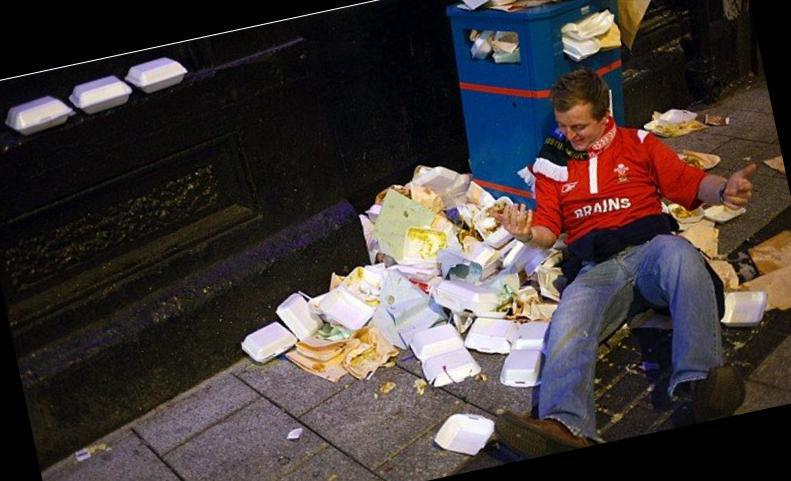Drunk: (550, 106, 601, 151)
